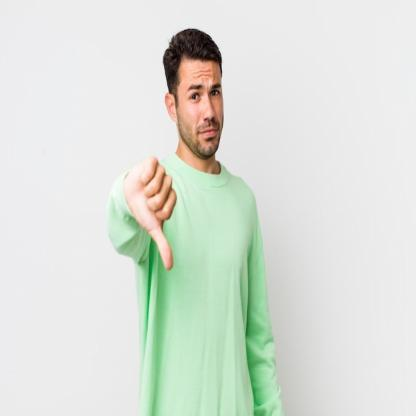thumb_down: (124, 150, 178, 274)
